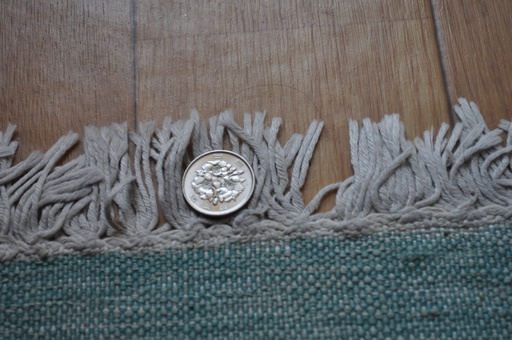100yen: (183, 151, 255, 218)
